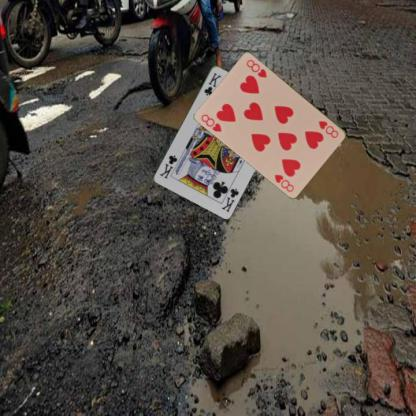8h: (199, 112, 223, 134), (316, 118, 340, 139)
Kc: (218, 186, 240, 213), (201, 70, 223, 96)
